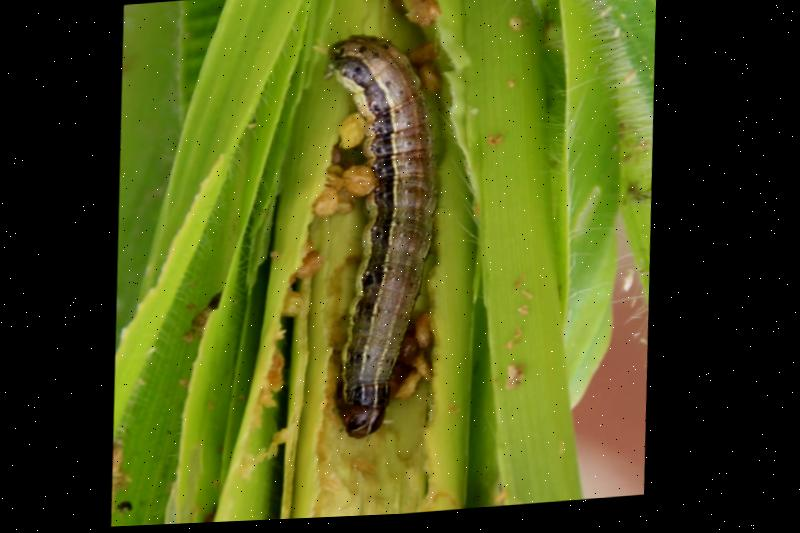fall-armyworm: (328, 37, 440, 443)
